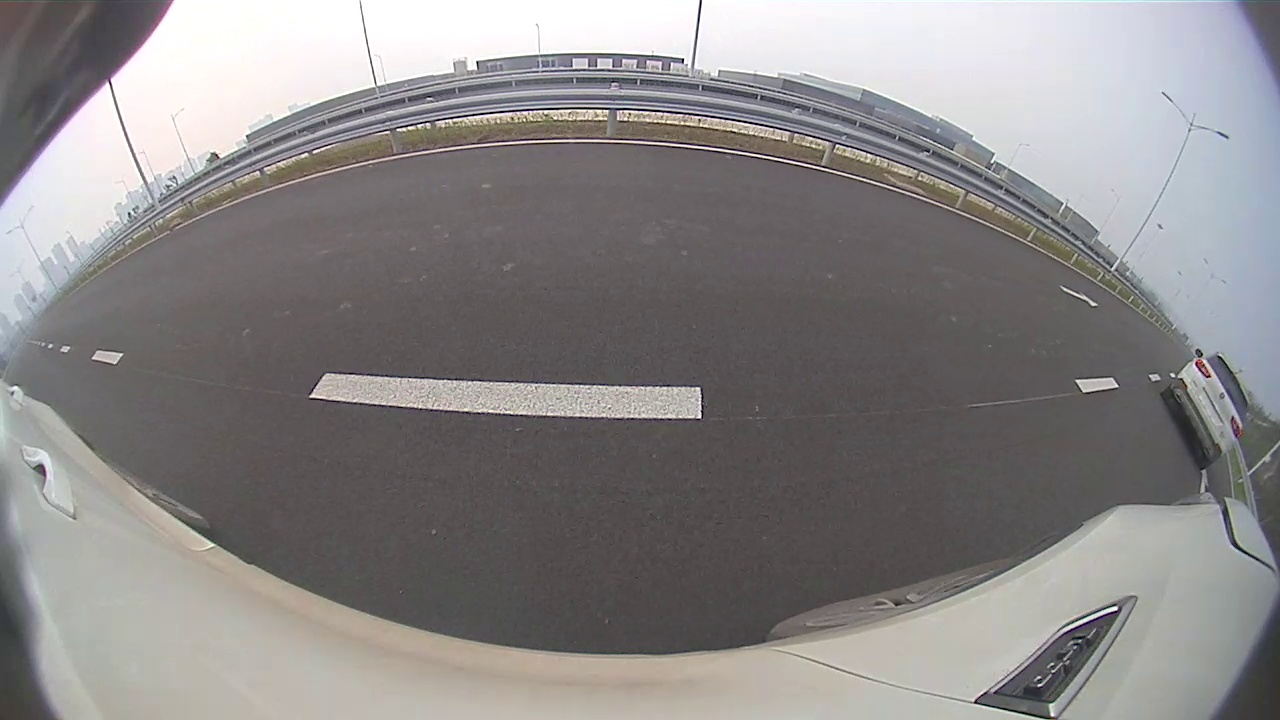car: (1159, 349, 1250, 469)
